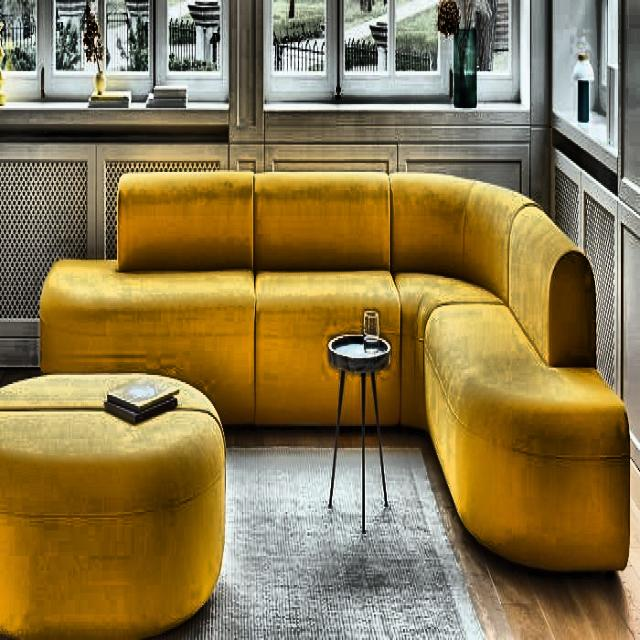sofa: (38, 166, 630, 574)
